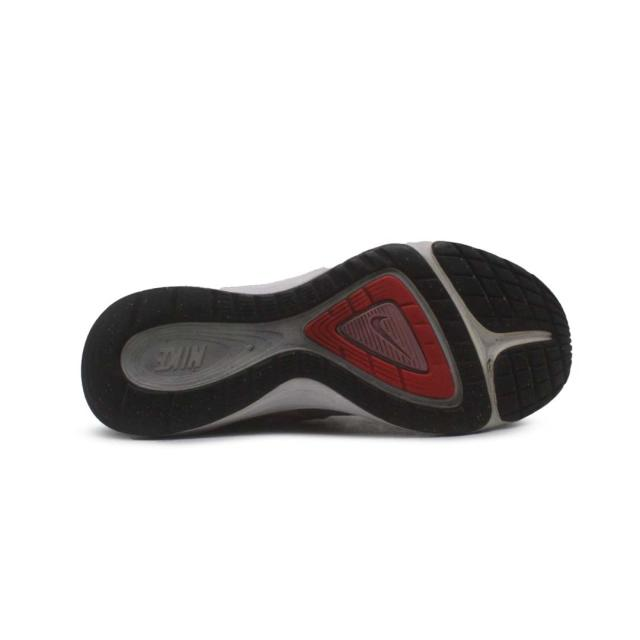outersole: (78, 242, 575, 441)
